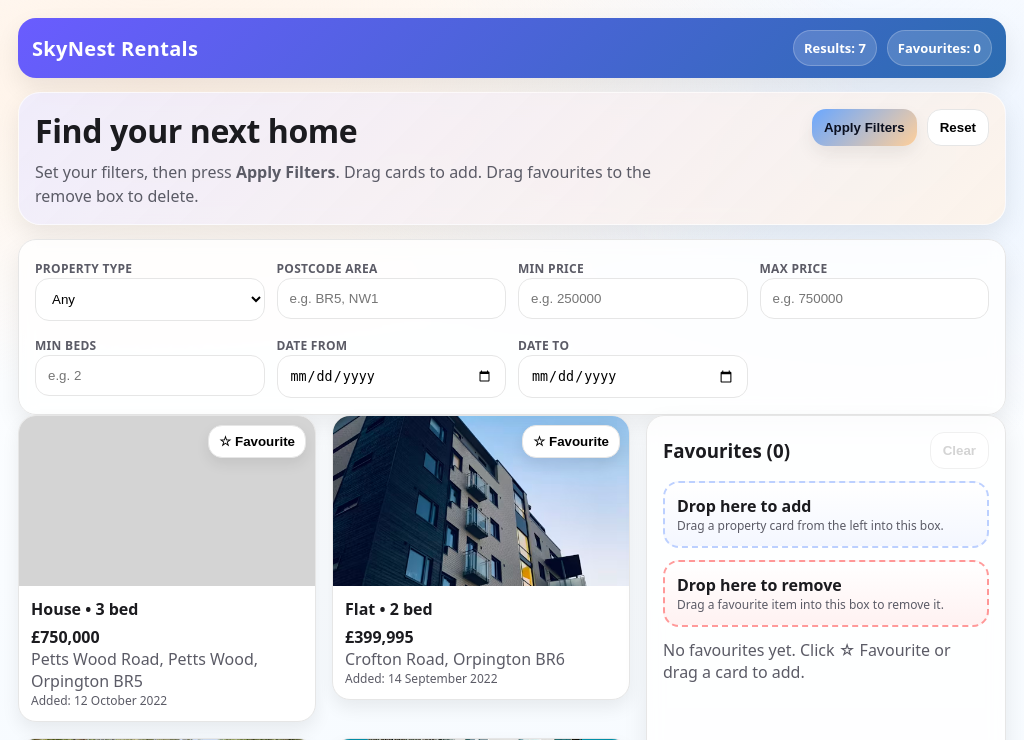
adds a property to favourites and updates favourites count
// click first Favourite button
Click the 1st button "☆ Favourite" at (257, 442), box [208, 425, 306, 458]
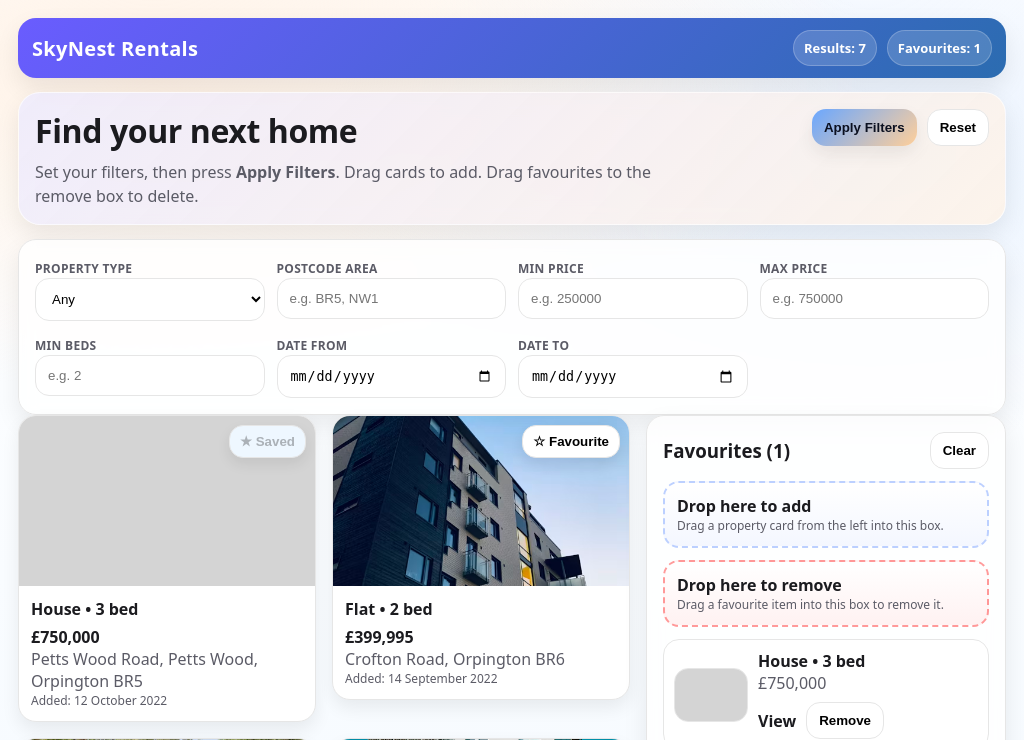
Now the text "Favourites: 1" is shown, box [887, 30, 992, 66]
